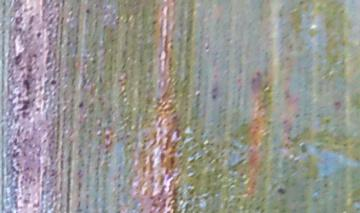tarspot: (15, 98, 30, 113), (21, 77, 30, 95), (333, 100, 341, 111), (276, 187, 285, 195), (293, 111, 301, 120), (49, 77, 56, 87), (34, 30, 42, 38), (151, 17, 158, 26), (251, 76, 257, 85), (77, 100, 83, 108), (83, 7, 91, 13), (33, 106, 41, 112), (254, 71, 262, 77), (210, 93, 217, 99), (168, 37, 174, 43), (168, 43, 173, 50)
